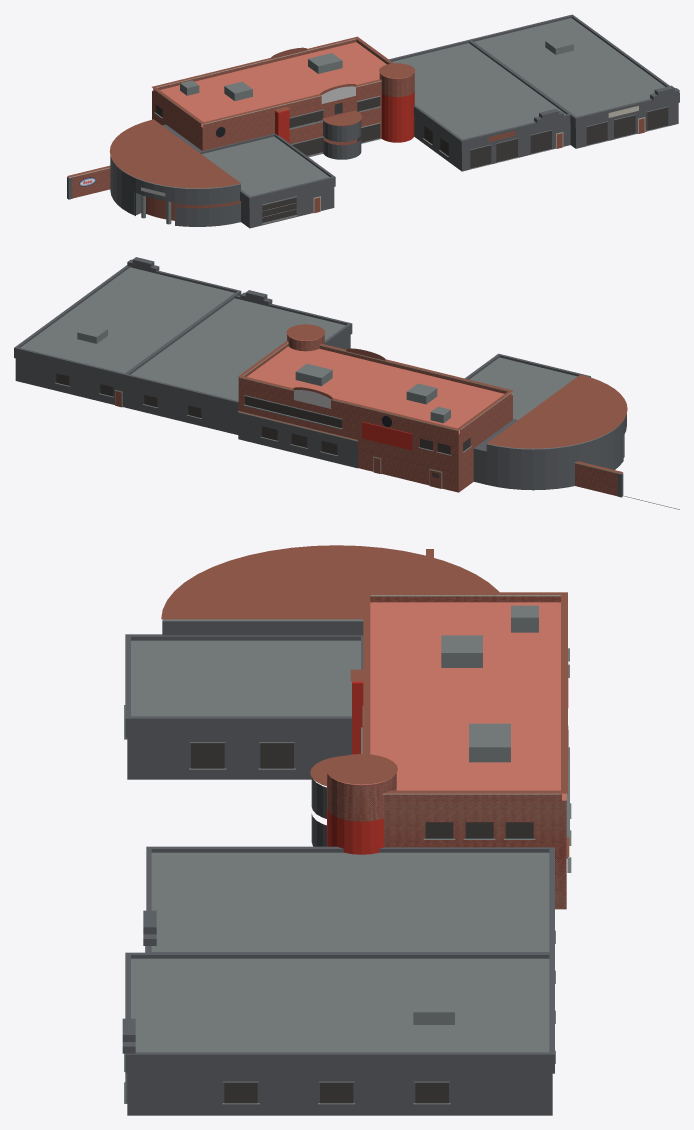
The model's file is cyxd_hangar19_lod1.gltf.
The picture shows the model from 3 angles, top to bottom: view 1: azimuth 30°, elevation 25°; view 2: azimuth 150°, elevation 25°; view 3: azimuth 270°, elevation 25°; orthographic projection. The views are drawn at different scales.
Parts seen in each view (by area): view 1: cyxd_hangar19; view 2: cyxd_hangar19; view 3: cyxd_hangar19.
Boxes of the visible parts, box(x1,y1,x2,y2) form: cyxd_hangar19: box(67, 14, 679, 228); cyxd_hangar19: box(14, 257, 679, 509); cyxd_hangar19: box(122, 545, 571, 1115).
Size of the model in its own units: 97.74 by 10.24 by 32.19.
